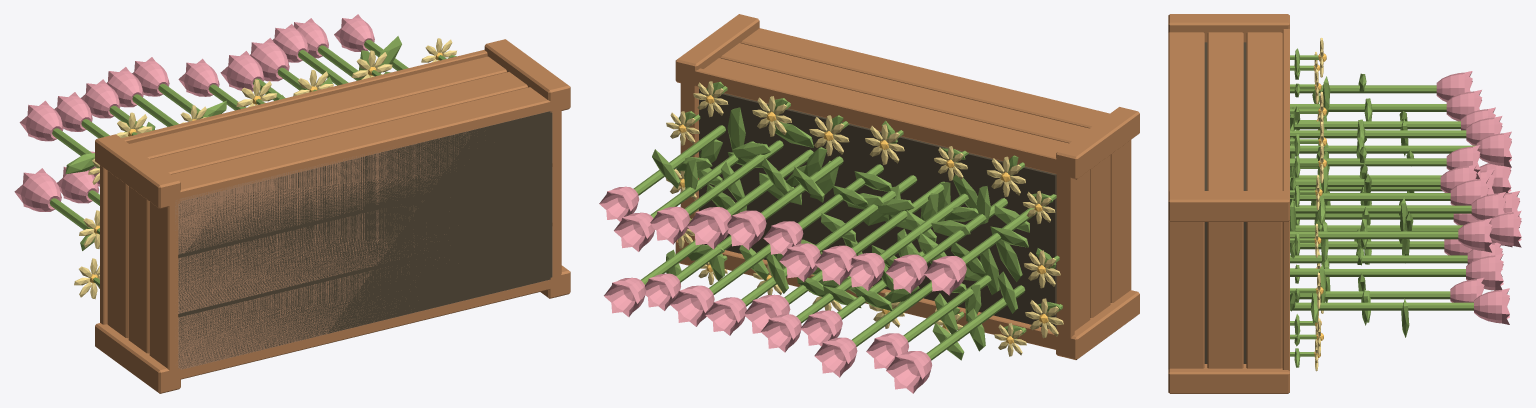
File: 15-planter-tulips.glb
3 renders of one model, left to right at view 1: azimuth 30°, elevation 25°; view 2: azimuth 150°, elevation 25°; view 3: azimuth 270°, elevation 25°, orthographic. The views are drawn at different scales.
Parts seen in each view (by area): view 1: Liner, BasePlank2, BoardF0, BasePlank1, BasePlank0, BoardF1, BoardF2, BoardL0, BoardB0, BoardL1, BoardL2, Post-1+1 (+21 smaller); view 2: SoilBed, BoardF1, BoardF0, RimF, BoardF2, BoardL0, RimL, BoardL1, Post-1+1, BoardL2, RimB, Post-1-1 (+45 smaller); view 3: BoardF0, BoardF1, BoardF2, BoardR0, BoardR1, BoardR2, Post+1+1, Post+1-1, Post-1+1, Liner, Stem4, Stem7 (+36 smaller).
Boxes of the visible parts, x1,y1,x2,y2 form: Liner: [178, 111, 552, 368]; BasePlank2: [175, 111, 552, 254]; BoardF0: [169, 87, 561, 203]; BasePlank1: [175, 167, 552, 313]; BasePlank0: [175, 226, 552, 369]; BoardF1: [150, 72, 527, 174]; BoardF2: [129, 56, 506, 159]; BoardL0: [149, 193, 178, 380]; BoardB0: [169, 277, 561, 381]; BoardL1: [128, 186, 149, 353]; BoardL2: [107, 171, 128, 338]; Post-1+1: [95, 134, 180, 208]; SoilBed: [699, 88, 1056, 328]; BoardF1: [721, 43, 1089, 143]; BoardF0: [741, 28, 1109, 128]; RimF: [682, 68, 1069, 176]; BoardF2: [704, 58, 1068, 154]; BoardL0: [1110, 140, 1131, 302]; RimL: [1056, 161, 1074, 351]; BoardL1: [1090, 155, 1110, 317]; Post-1+1: [1056, 107, 1139, 179]; BoardL2: [1074, 170, 1090, 330]; RimB: [682, 244, 1069, 352]; Post-1-1: [1056, 290, 1139, 359]; BoardF0: [1168, 32, 1204, 192]; BoardF1: [1207, 32, 1243, 190]; BoardF2: [1246, 32, 1282, 190]; BoardR0: [1168, 220, 1204, 369]; BoardR1: [1207, 222, 1243, 368]; BoardR2: [1246, 222, 1282, 368]; Post+1+1: [1168, 191, 1289, 221]; Post+1-1: [1168, 364, 1289, 393]; Post-1+1: [1168, 14, 1289, 42]; Liner: [1204, 42, 1246, 363]; Stem4: [1290, 302, 1473, 310]; Stem7: [1290, 255, 1467, 263].
Bounding box in the file's own units: 3.67 × 1.79 × 2.9.
